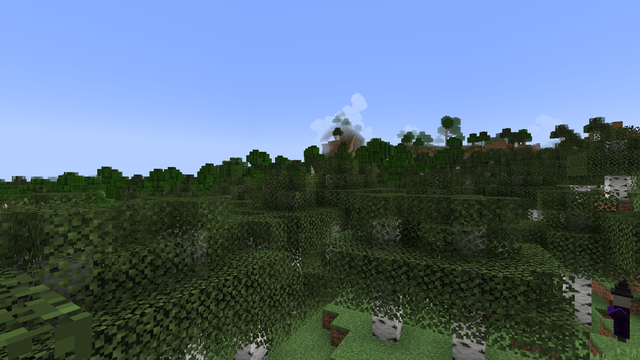sorcieres: (607, 288, 635, 345)
